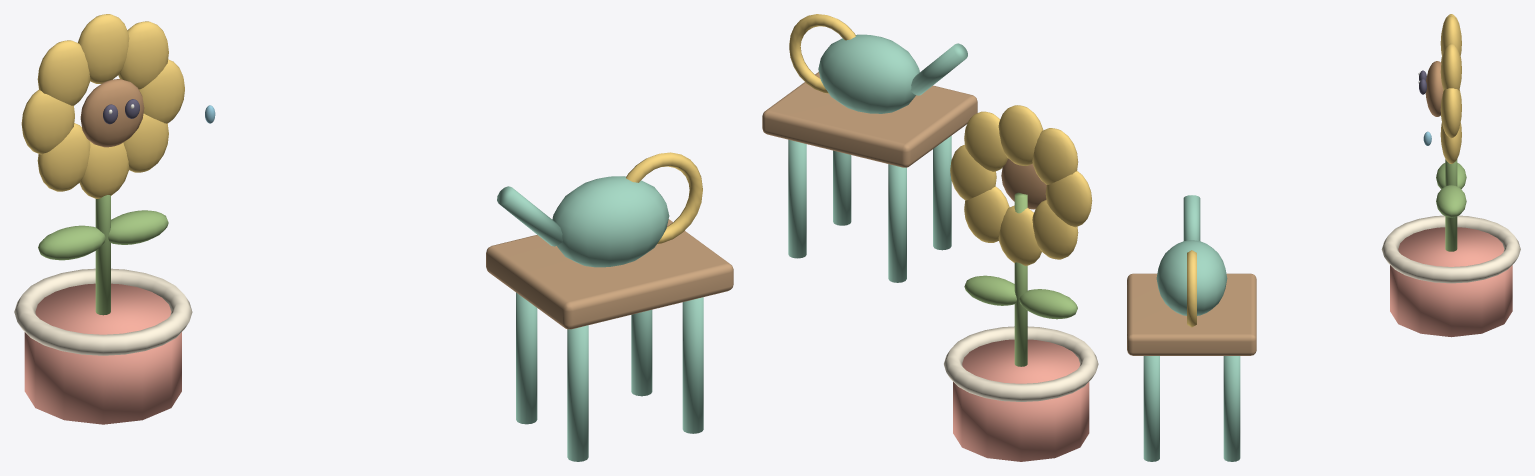
File: play-flower.glb
The picture shows the model from 3 angles, left to right: view 1: azimuth 30°, elevation 25°; view 2: azimuth 150°, elevation 25°; view 3: azimuth 270°, elevation 25°; orthographic projection. The views are drawn at different scales.
Visible parts, largest first — view 1: Scenery surfaces, Pot surfaces, Flower surfaces, Can surfaces; view 2: Scenery surfaces, Pot surfaces, Flower surfaces, Can surfaces; view 3: Scenery surfaces, Pot surfaces, Can surfaces, Flower surfaces.
Part boxes in pixels (bbox=[...]): Scenery surfaces: bbox=[38, 195, 733, 461]; Pot surfaces: bbox=[14, 268, 192, 424]; Flower surfaces: bbox=[21, 14, 184, 198]; Can surfaces: bbox=[497, 152, 702, 267]; Scenery surfaces: bbox=[762, 72, 1077, 366]; Pot surfaces: bbox=[944, 326, 1098, 461]; Flower surfaces: bbox=[950, 105, 1092, 265]; Can surfaces: bbox=[789, 14, 967, 113]; Scenery surfaces: bbox=[1127, 159, 1466, 461]; Pot surfaces: bbox=[1381, 215, 1520, 337]; Can surfaces: bbox=[1156, 195, 1227, 327]; Flower surfaces: bbox=[1418, 14, 1461, 163].
Bounding box in the file's own units: 1.97 × 1.37 × 1.67.
